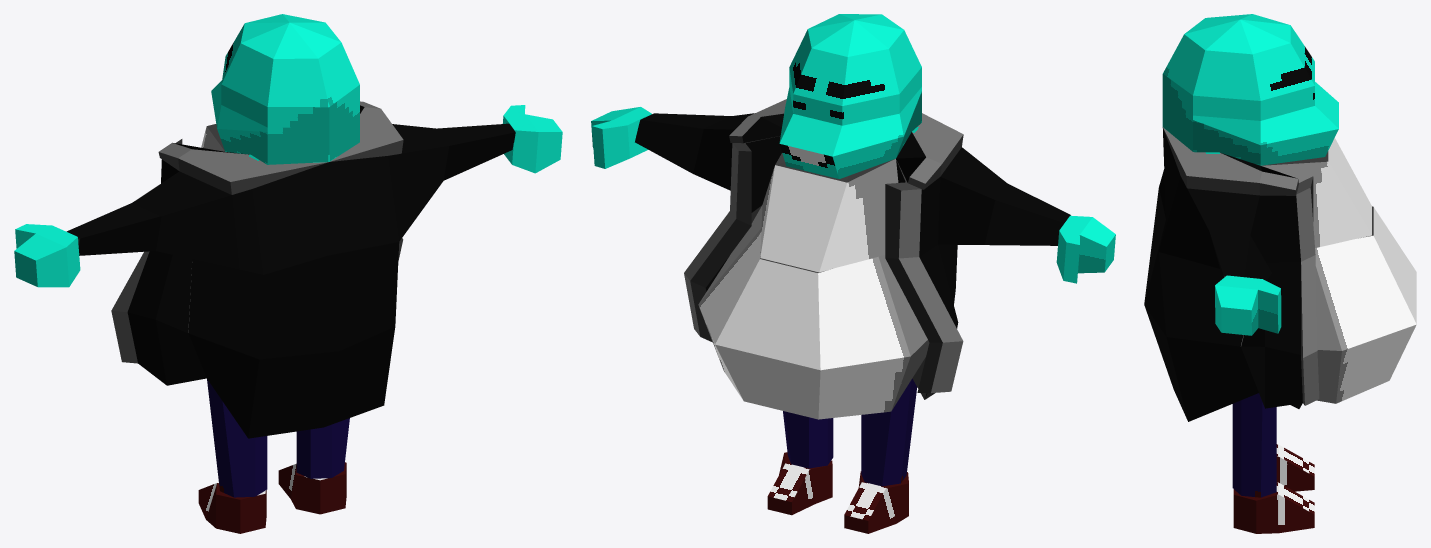
File: jorgin3electricbogaloo.gltf
The picture shows the model from 3 angles, left to right: view 1: azimuth 30°, elevation 25°; view 2: azimuth 150°, elevation 25°; view 3: azimuth 270°, elevation 25°; orthographic projection. The views are drawn at different scales.
Visible parts, largest first — view 1: jorginputao; view 2: jorginputao; view 3: jorginputao.
Boxes of the visible parts, x1=… form: jorginputao: x1=14, y1=14, x2=562, y2=533; jorginputao: x1=591, y1=14, x2=1115, y2=533; jorginputao: x1=1144, y1=14, x2=1416, y2=533.
Size of the model in its own units: 5.16 by 4.54 by 2.32.
Materials: 1 (1 with a texture image).
